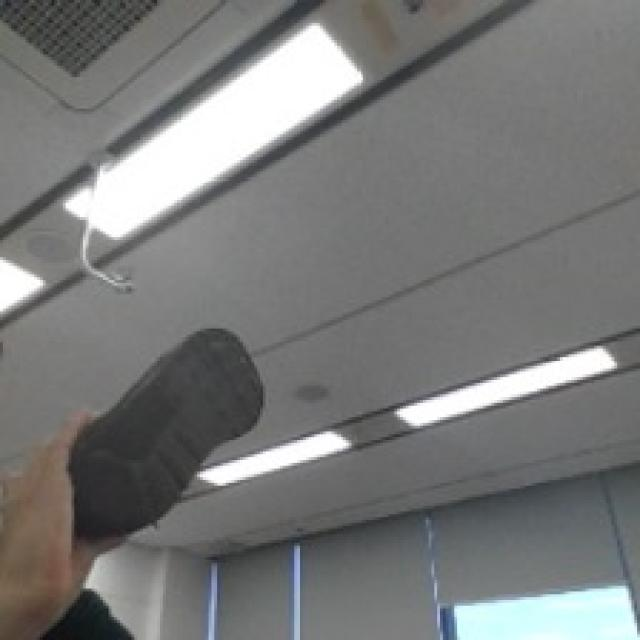shoes: (71, 320, 268, 544)
